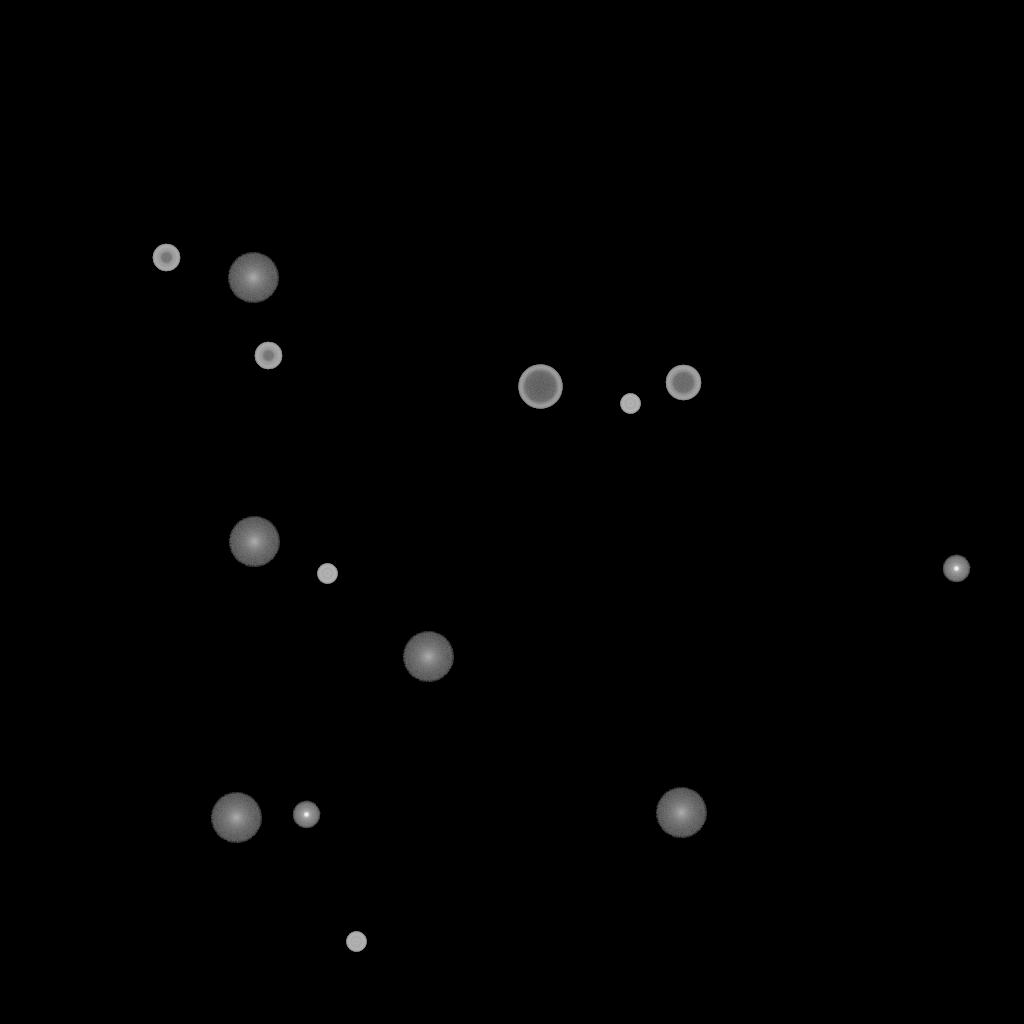depth:-10: (292, 801, 320, 829), (942, 555, 970, 583)
depth:-40: (317, 564, 337, 584), (620, 394, 640, 414), (346, 932, 366, 952)
depth:-50: (152, 244, 180, 272), (254, 342, 282, 370)
depth:-60: (665, 365, 701, 401)
depth:-70: (518, 365, 562, 409)
depth:20: (402, 632, 454, 682), (227, 253, 279, 303), (228, 517, 280, 567), (210, 793, 262, 843), (655, 788, 707, 838)
